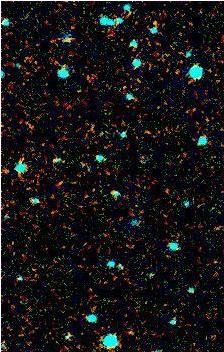star: (139, 7, 169, 37)
